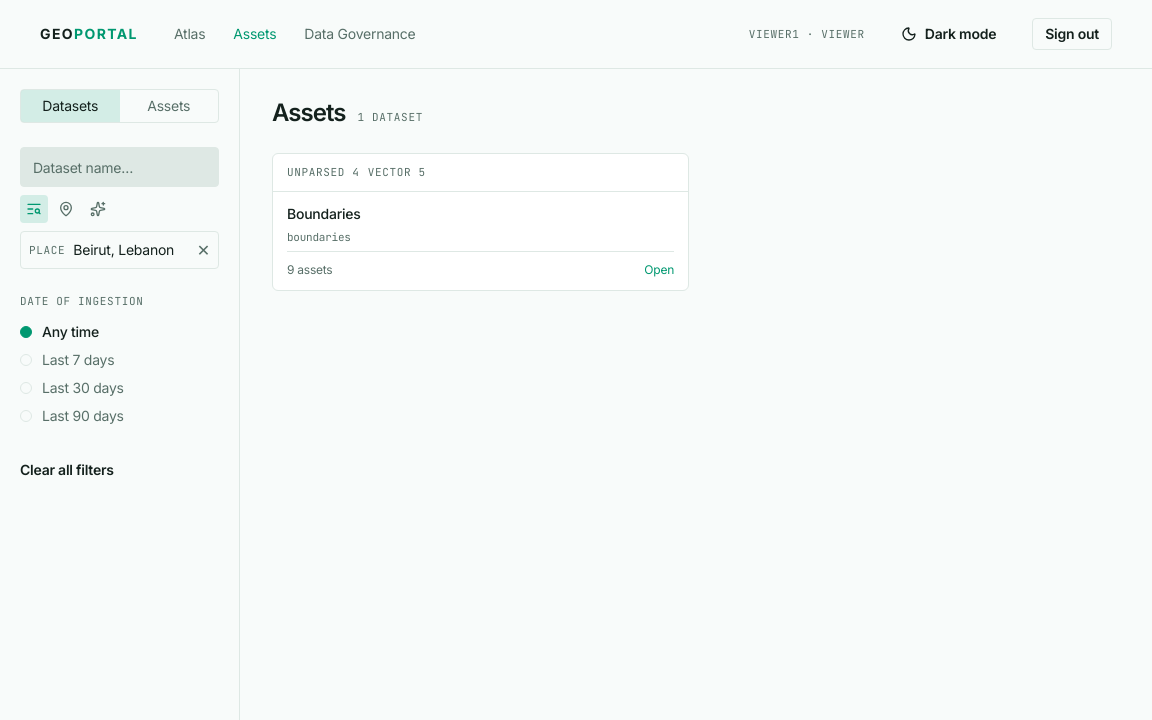
Test: filtering by area › drops both parameters when the area is removed
Click the button named "Remove area Beirut, Lebanon" at (203, 250), box top-left (197, 238), bottom-right (210, 262)
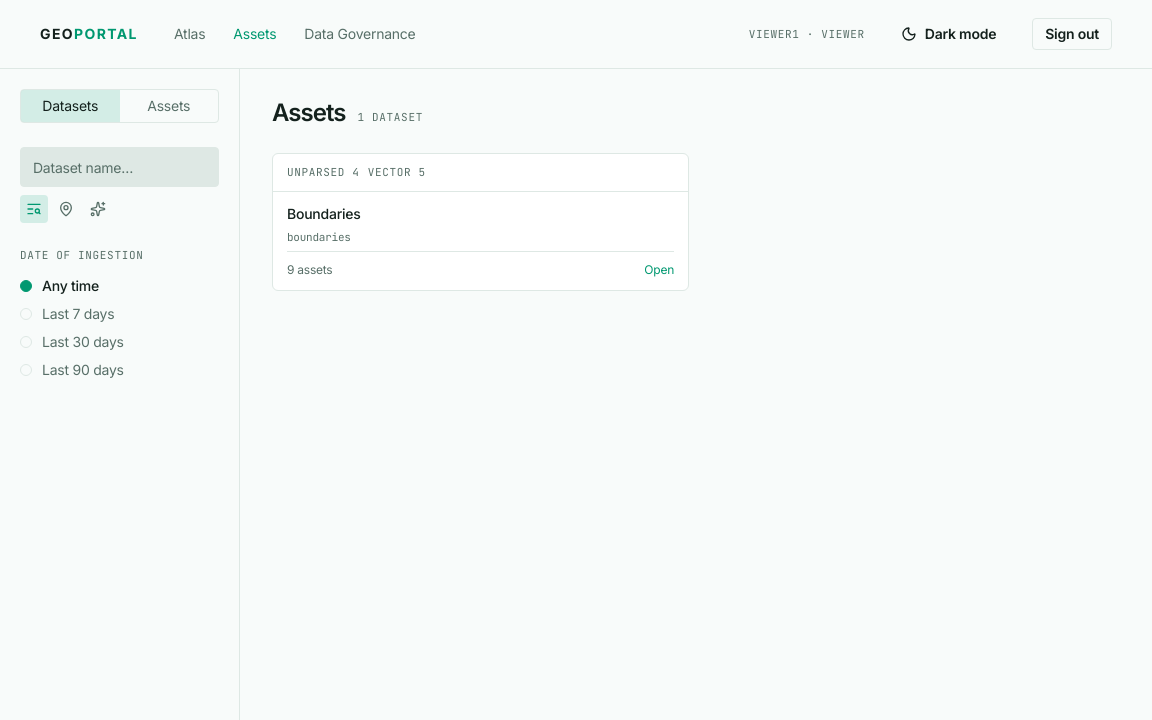
Expected: the text "Beirut, Lebanon" is gone
